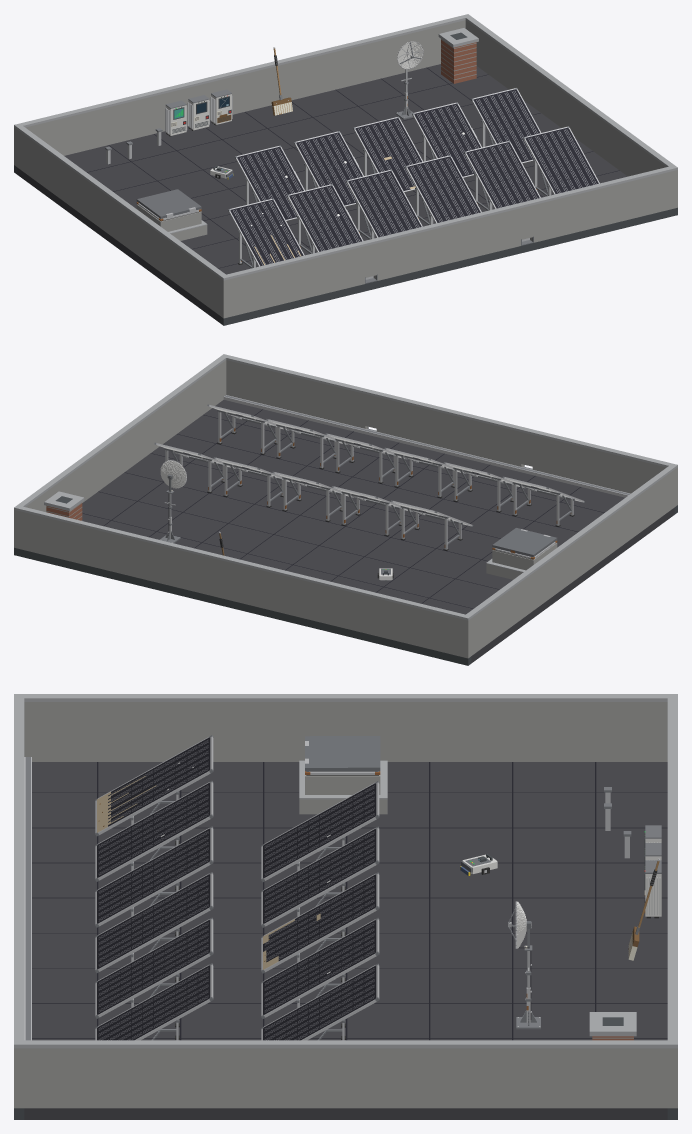
The model's file is roof.glb.
3 renders of one model, top to bottom at view 1: azimuth 30°, elevation 25°; view 2: azimuth 150°, elevation 25°; view 3: azimuth 270°, elevation 25°, orthographic. The views are drawn at different scales.
Visible parts, largest first — view 1: Room_Roof_Floor, Room_Roof_Parapet_Front, Room_Roof_Parapet_Back, Room_Roof_Parapet_Left, Room_Roof_Parapet_Right, SolarPanel_Damaged.001, SolarPanel_Clean.1, SolarPanel_Clean.004, SolarPanel_Dirty2, SolarPanel_Clean, SolarPanel_Clean.2, SolarPanel_Damaged.003 (+11 smaller); view 2: Room_Roof_Floor, Room_Roof_Parapet_Back, Room_Roof_Parapet_Front, Room_Roof_Parapet_Left, Room_Roof_Parapet_Right, RoofHatchLid, Room_Roof_Chimney, RoofHatchBase, PanelMount.010, PanelMount.011, PanelMount.1, PanelMount.2 (+8 smaller); view 3: Room_Roof_Floor, Room_Roof_Parapet_Right, Room_Roof_Parapet_Left, SolarPanel_Damaged, SolarPanel_Damaged.004, SolarPanel_Damaged.003, SolarPanel_Damaged.001, SolarPanel_Dirty, SolarPanel_Clean.1, SolarPanel_Clean.004, SolarPanel_Clean, SolarPanel_Dirty2 (+10 smaller).
Part boxes in pixels (x1,y1,x2,y2): Room_Roof_Floor: (14,64,677,325); Room_Roof_Parapet_Front: (220,165,677,318); Room_Roof_Parapet_Back: (14,14,470,166); Room_Roof_Parapet_Left: (17,126,225,315); Room_Roof_Parapet_Right: (465,16,674,176); SolarPanel_Damaged.001: (287,184,363,252); SolarPanel_Clean.1: (464,140,540,208); SolarPanel_Clean.004: (346,169,422,237); SolarPanel_Dirty2: (228,198,304,266); SolarPanel_Clean: (405,155,481,223); SolarPanel_Clean.2: (523,126,599,194); SolarPanel_Damaged.003: (294,131,363,207); Room_Roof_Floor: (14,395,677,665); Room_Roof_Parapet_Back: (14,505,471,658); Room_Roof_Parapet_Front: (221,354,677,506); Room_Roof_Parapet_Left: (466,466,674,655); Room_Roof_Parapet_Right: (17,356,226,511); RoofHatchLid: (492,528,557,557); Room_Roof_Chimney: (44,491,84,520); RoofHatchBase: (492,540,557,570); PanelMount.010: (400,506,462,550); PanelMount.011: (512,482,574,526); PanelMount.1: (276,424,336,469); PanelMount.2: (217,410,277,454); Room_Roof_Floor: (14,757,677,1119); Room_Roof_Parapet_Right: (24,1040,667,1108); Room_Roof_Parapet_Left: (24,694,667,761); SolarPanel_Damaged: (261,918,379,1018); SolarPanel_Damaged.004: (261,781,379,882); SolarPanel_Damaged.003: (261,826,379,927); SolarPanel_Damaged.001: (95,780,213,881); SolarPanel_Dirty: (261,872,379,973); SolarPanel_Clean.1: (95,917,213,1018); SolarPanel_Clean.004: (95,826,213,927); SolarPanel_Clean: (95,872,213,973); SolarPanel_Dirty2: (95,735,213,836).
Size of what is drawn, in the model's own units: 10 by 1.76 by 8.
Materials: 20 (20 with a texture image).
